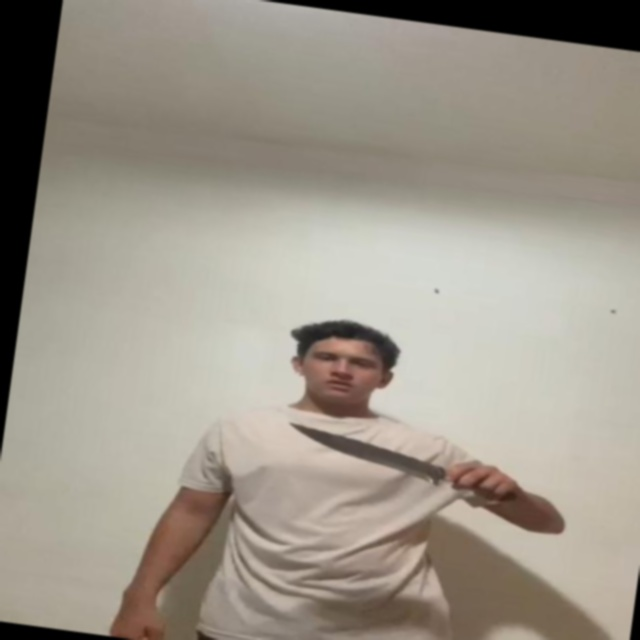Sharp-Object: (287, 423, 447, 487)
